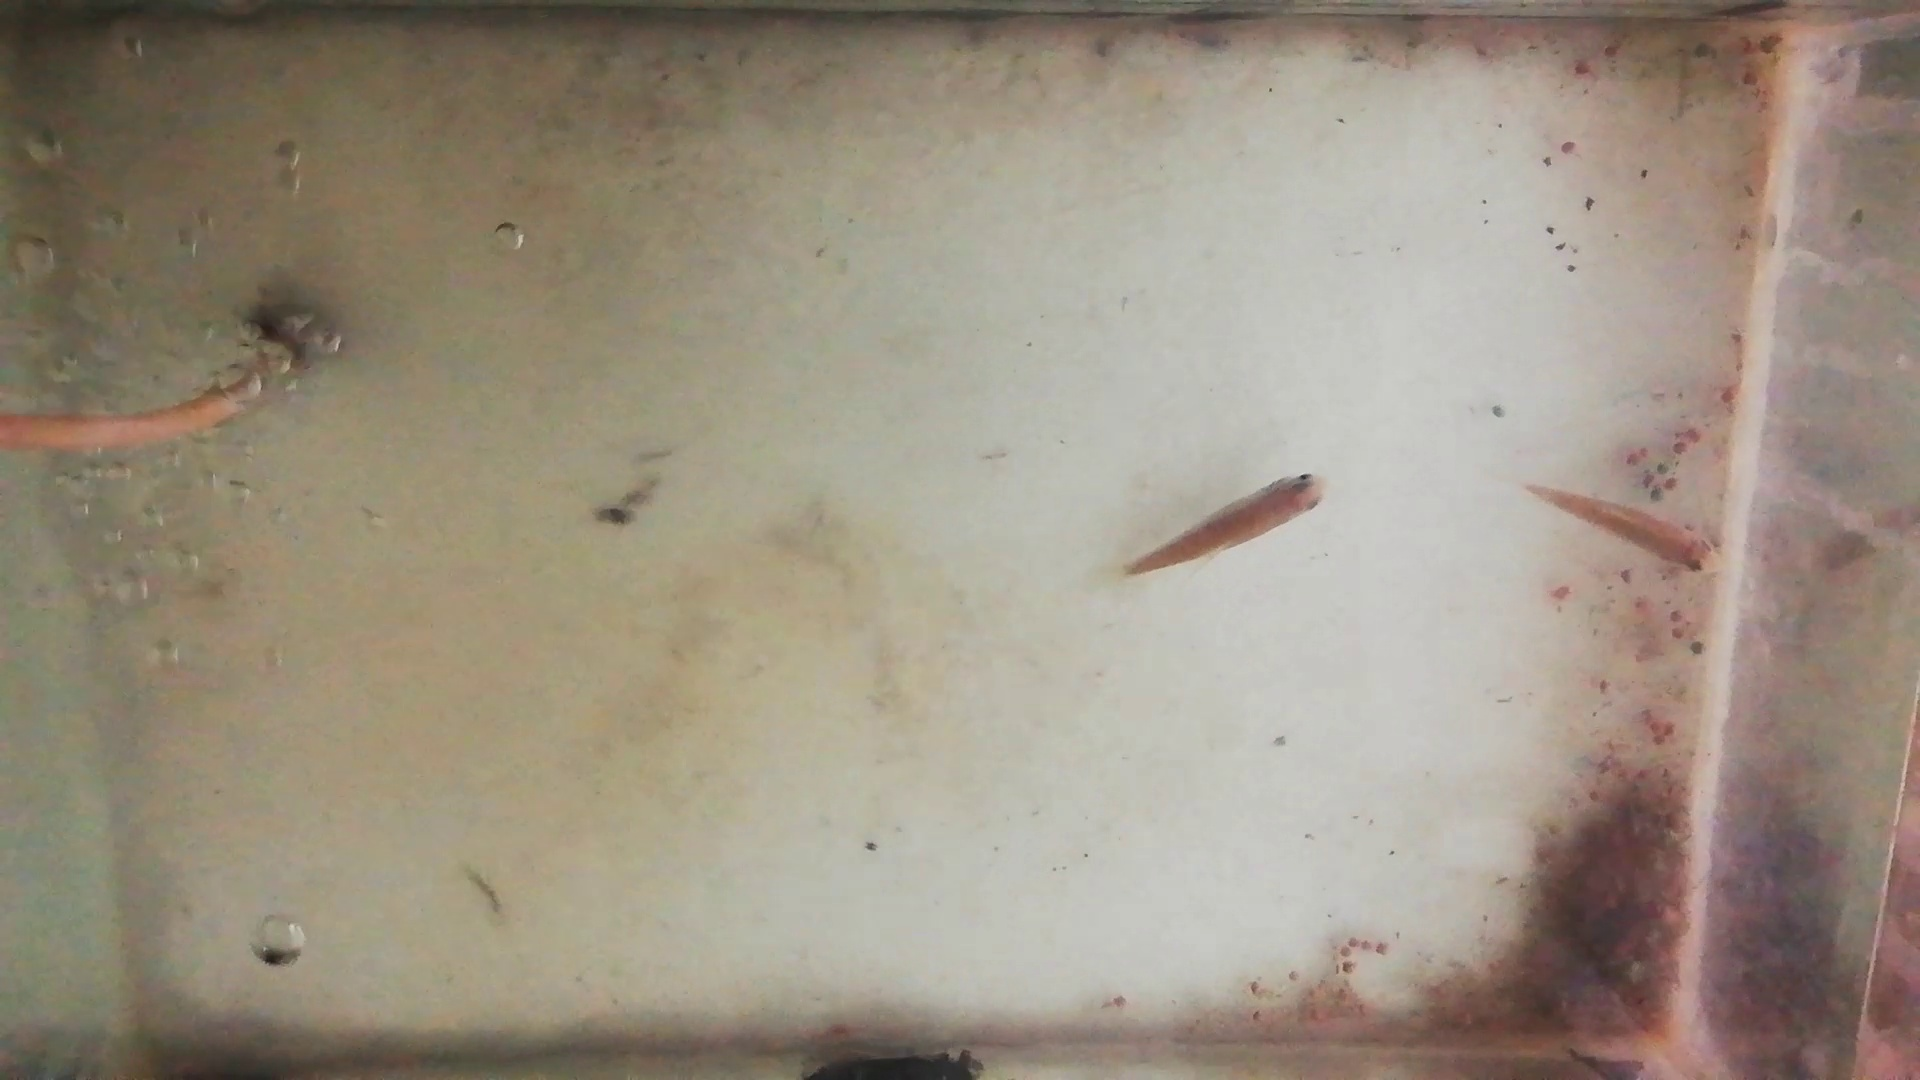fish: (1124, 469, 1325, 579), (1530, 485, 1721, 579)
